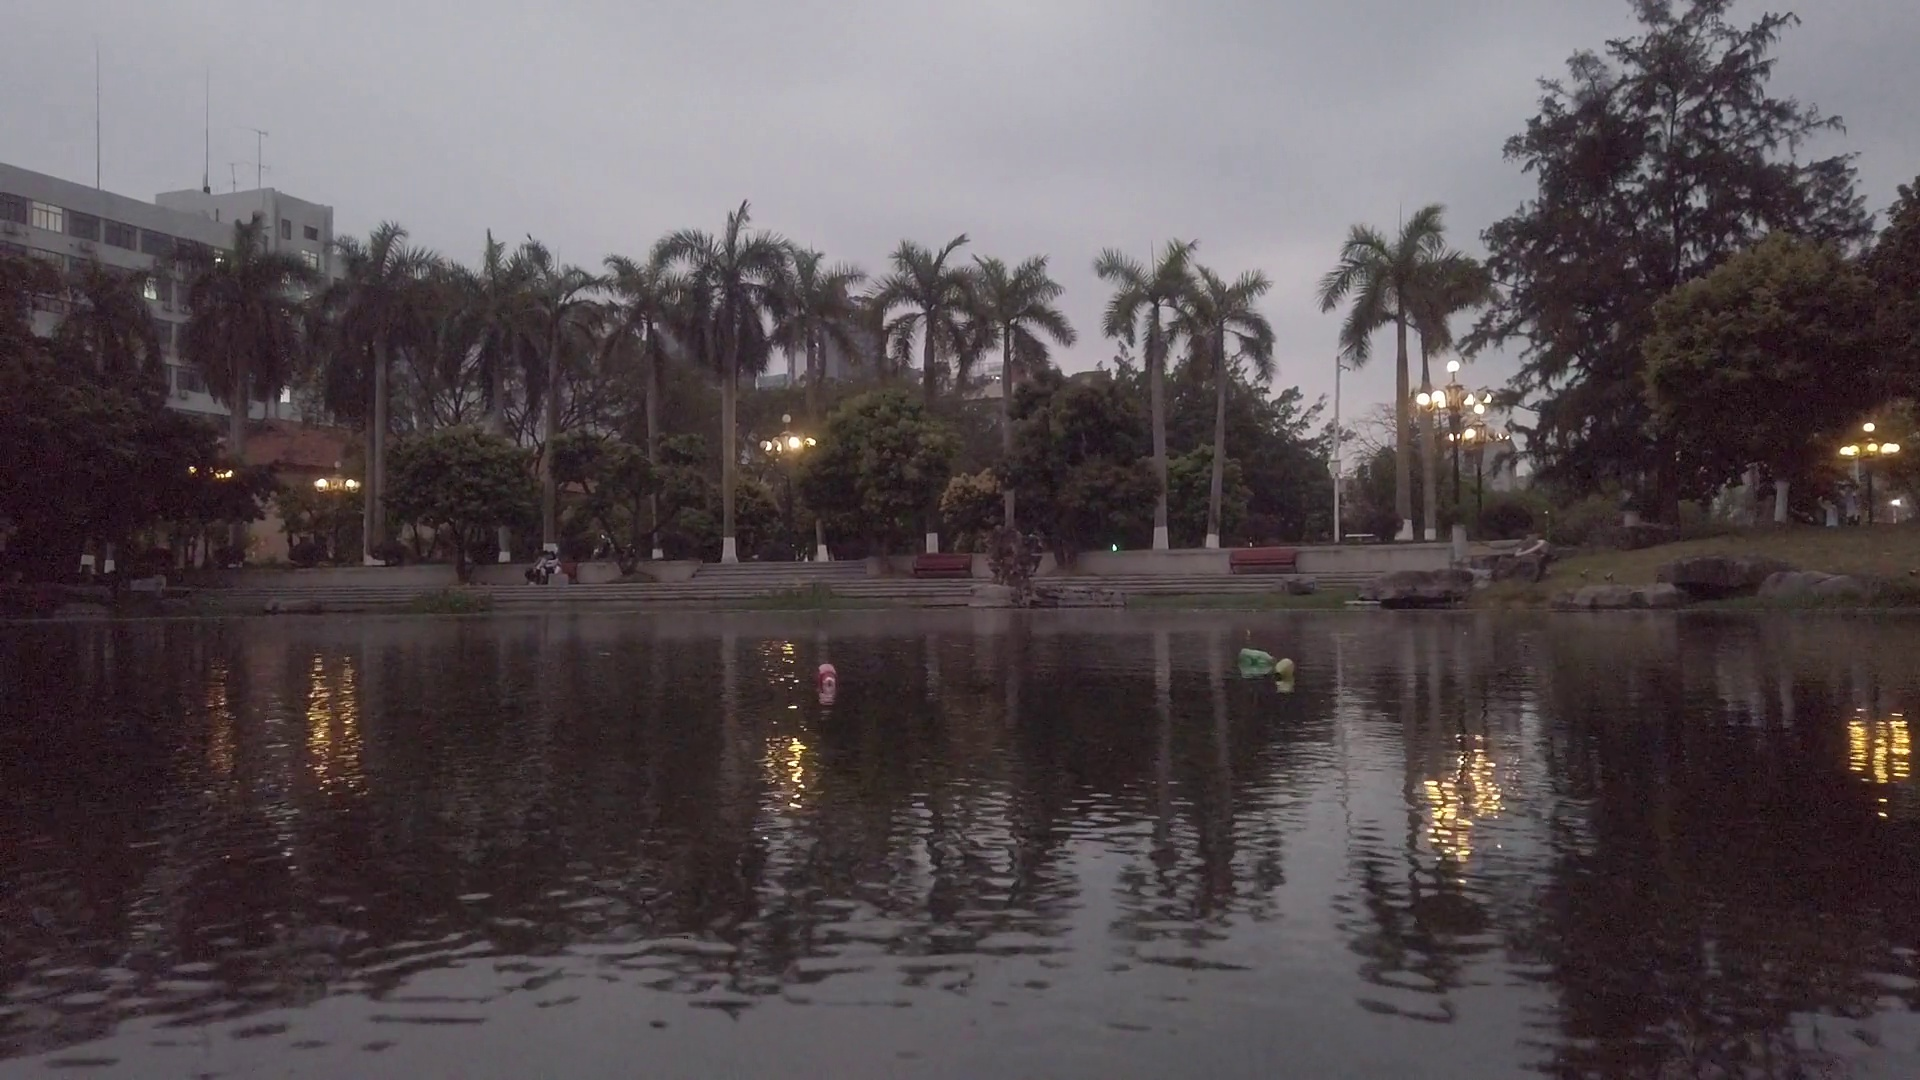bottle: (1236, 646, 1278, 669), (816, 662, 836, 690), (1274, 658, 1296, 680)
